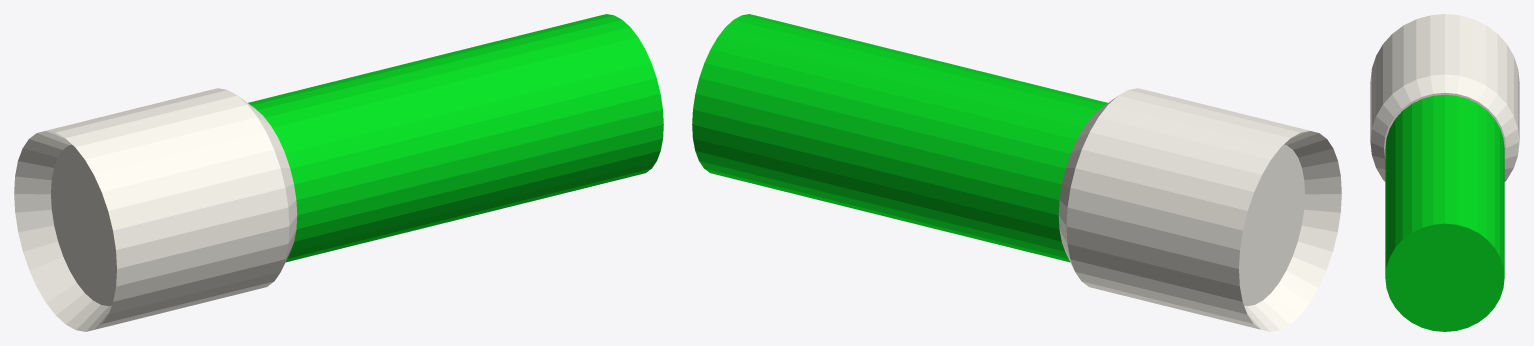
Rendered from fleshlight.fbx.
3 renders of one model, left to right at view 1: azimuth 30°, elevation 25°; view 2: azimuth 150°, elevation 25°; view 3: azimuth 270°, elevation 25°, orthographic. The views are drawn at different scales.
Visible parts, largest first — view 1: Cylinder.005; view 2: Cylinder.005; view 3: Cylinder.005.
Boxes of the visible parts, x1=… form: Cylinder.005: x1=14, y1=14, x2=663, y2=331; Cylinder.005: x1=692, y1=14, x2=1341, y2=331; Cylinder.005: x1=1370, y1=14, x2=1519, y2=331.
Bounding box in the file's own units: 1218 × 391 × 389.
